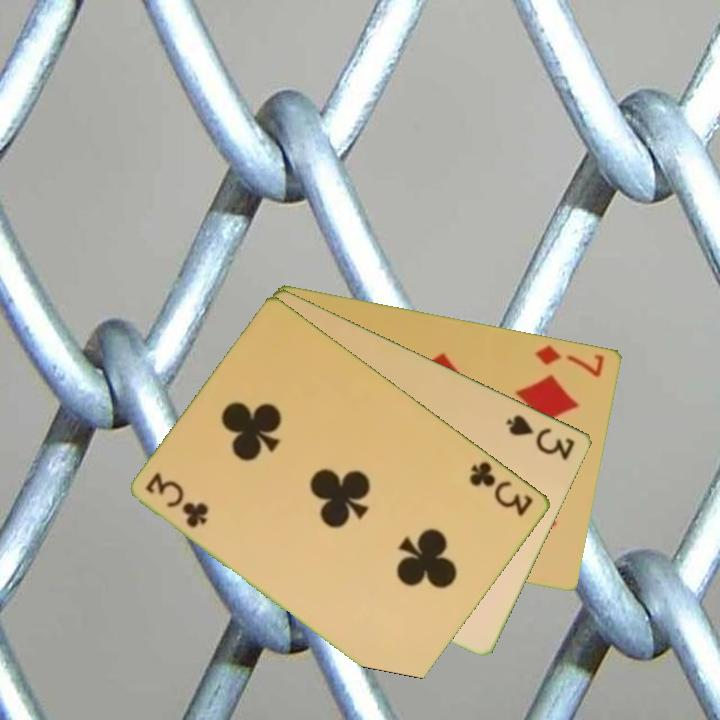3c: (466, 457, 537, 519), (142, 469, 212, 531)
3s: (503, 410, 579, 463)
7d: (532, 341, 608, 379)
